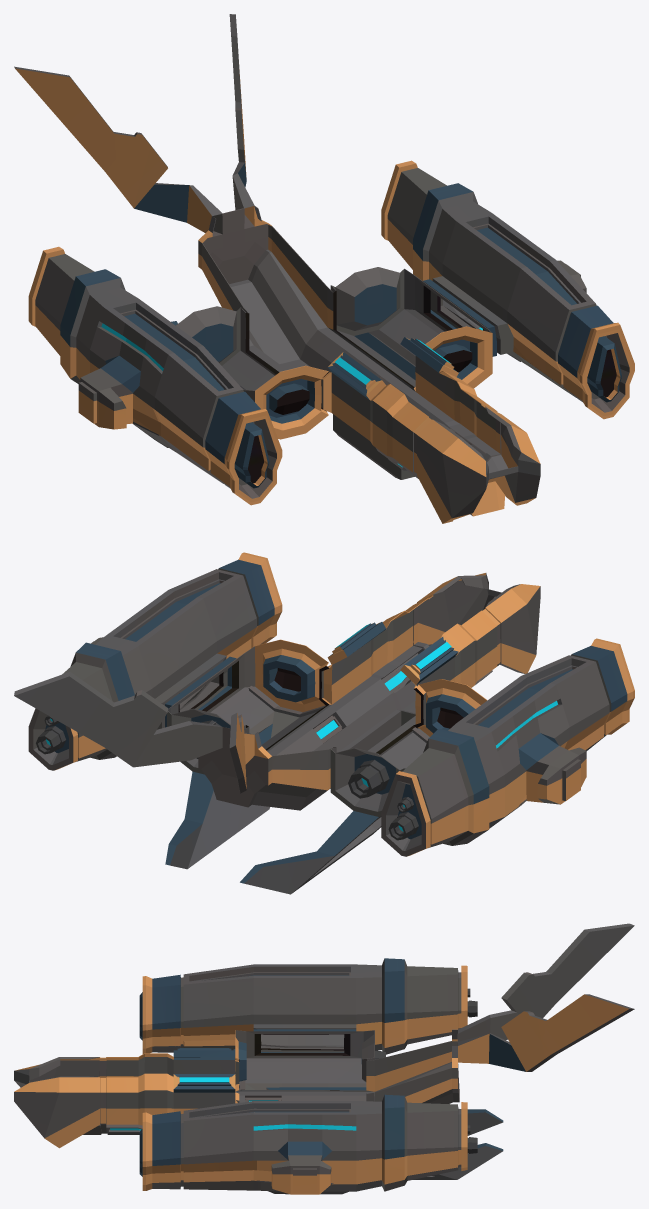
The model's file is SpaceShipBody.fbx.
3 views of the same model, one above another, from view 1: azimuth 30°, elevation 25°; view 2: azimuth 150°, elevation 25°; view 3: azimuth 270°, elevation 25° (orthographic). The views are drawn at different scales.
Parts seen in each view (by area): view 1: Cube; view 2: Cube; view 3: Cube.
Boxes of the visible parts, bbox=[...] form: Cube: bbox=[14, 14, 634, 523]; Cube: bbox=[14, 552, 634, 894]; Cube: bbox=[14, 923, 634, 1194].
Bounding box in the file's own units: 1153 × 559 × 1605.
